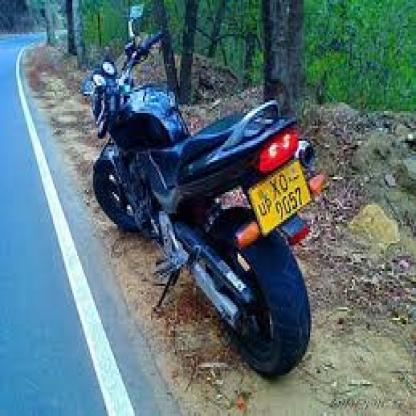bike back: (80, 0, 327, 386)
number plate: (254, 172, 304, 220)
